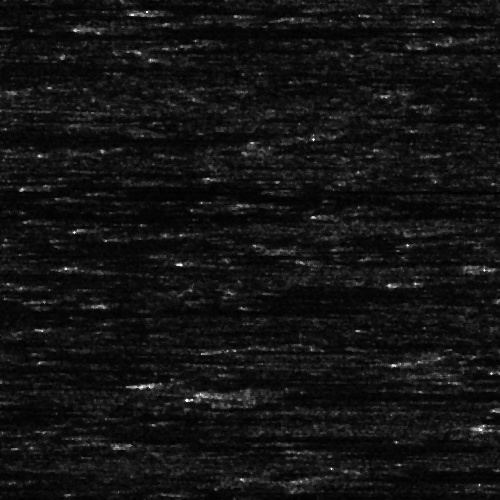object: (237, 465, 414, 484), (171, 381, 306, 400), (111, 435, 194, 450), (85, 377, 220, 386), (78, 23, 161, 30), (131, 6, 184, 13), (0, 27, 15, 38), (283, 186, 304, 191)
shadow: (0, 27, 348, 38), (153, 435, 405, 450), (325, 465, 498, 484), (239, 381, 411, 400), (0, 0, 350, 9), (120, 23, 397, 30), (0, 61, 136, 74), (0, 297, 79, 318), (153, 377, 322, 386), (0, 127, 65, 144), (158, 6, 251, 13), (294, 186, 389, 191)
